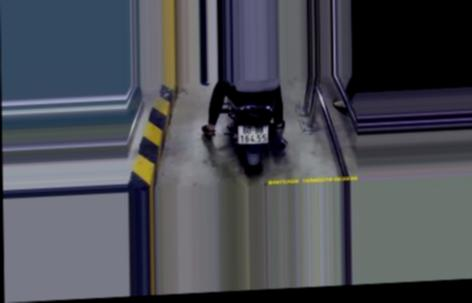License_Plate: (233, 120, 271, 149)
